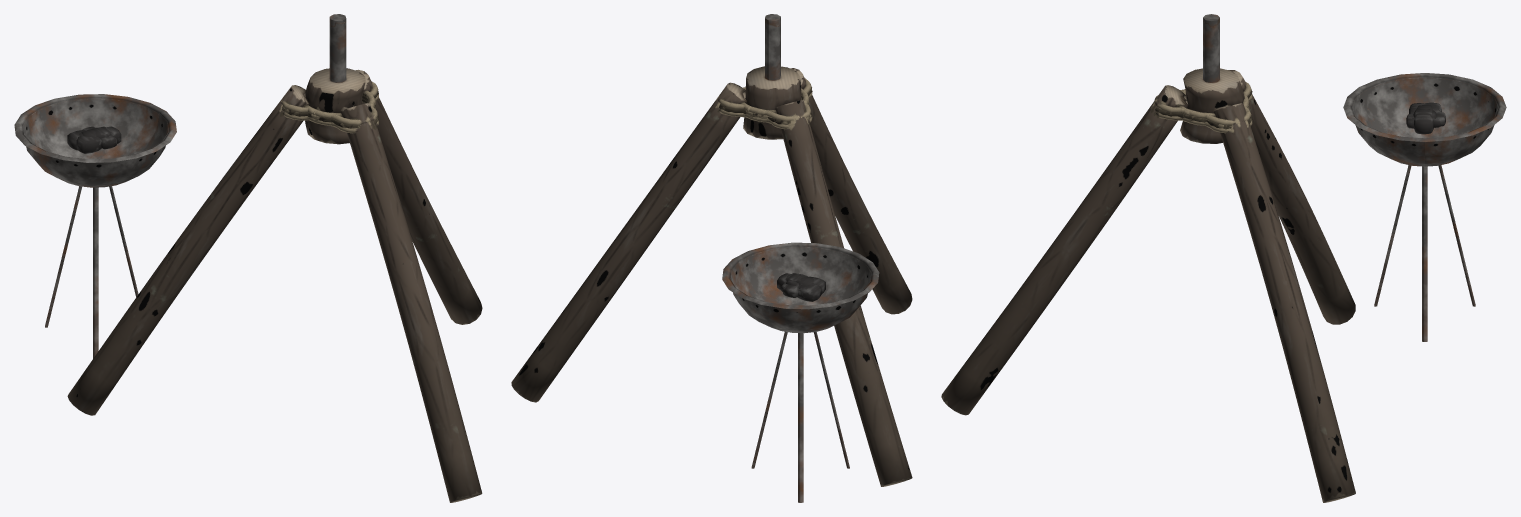
The model's file is SM_FireBallista_Base.fbx.
3 views of the same model, side by side, from view 1: azimuth 30°, elevation 25°; view 2: azimuth 150°, elevation 25°; view 3: azimuth 270°, elevation 25° (orthographic). The views are drawn at different scales.
Parts seen in each view (by area): view 1: SM_FireBallista_Base; view 2: SM_FireBallista_Base; view 3: SM_FireBallista_Base.
Boxes of the visible parts, box(x1,y1,x2,y2) form: SM_FireBallista_Base: box(14, 14, 482, 502); SM_FireBallista_Base: box(511, 14, 912, 502); SM_FireBallista_Base: box(941, 14, 1506, 502).
Bounding box in the file's own units: 167 × 199 × 153.
